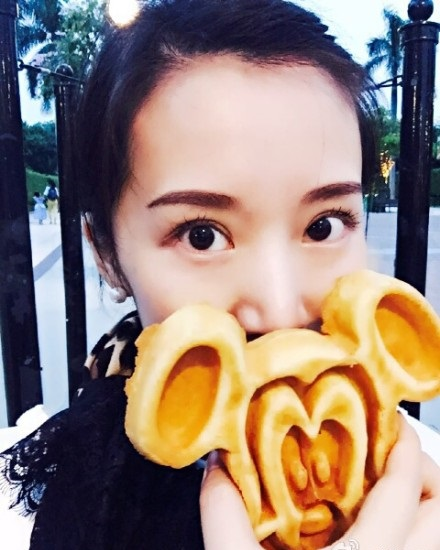face: (132, 59, 379, 400)
